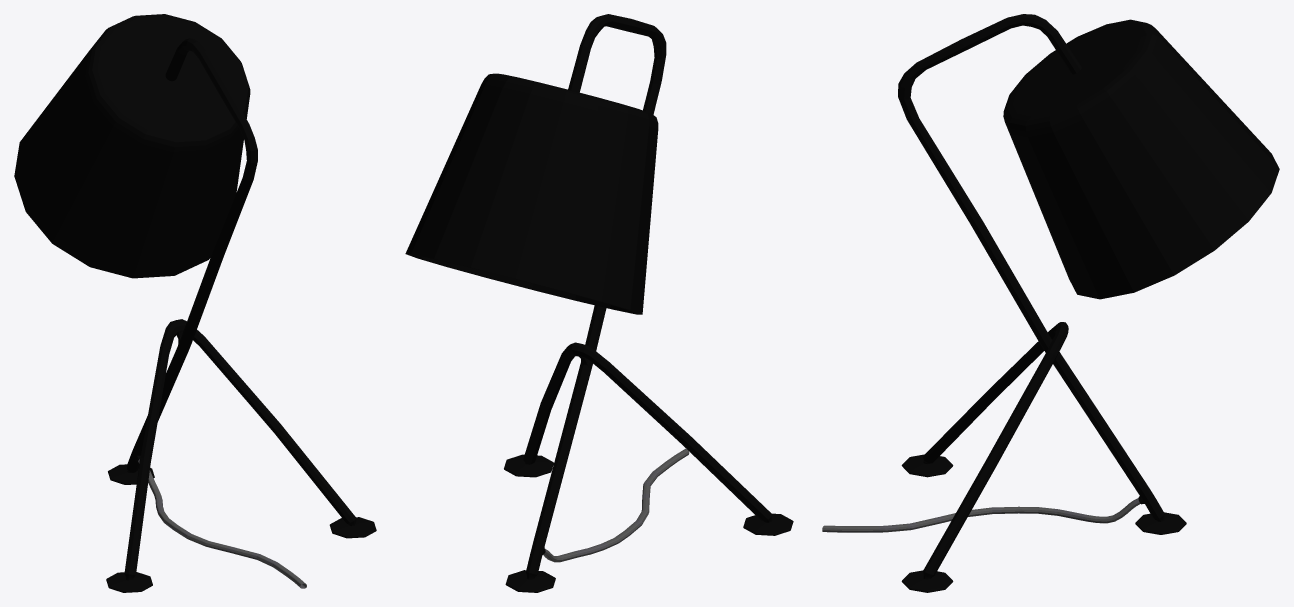
Rendered from lamp.obj.
3 renders of one model, left to right at view 1: azimuth 30°, elevation 25°; view 2: azimuth 150°, elevation 25°; view 3: azimuth 270°, elevation 25°, orthographic. The views are drawn at different scales.
Parts seen in each view (by area): view 1: Lampe_FerBlanc:Lampe_FerBlanc_Cable1 pasted__group19 group1; view 2: Lampe_FerBlanc:Lampe_FerBlanc_Cable1 pasted__group19 group1; view 3: Lampe_FerBlanc:Lampe_FerBlanc_Cable1 pasted__group19 group1.
Boxes of the visible parts, left/top/right/bottom form: Lampe_FerBlanc:Lampe_FerBlanc_Cable1 pasted__group19 group1: left=14, top=14, right=376, bottom=592; Lampe_FerBlanc:Lampe_FerBlanc_Cable1 pasted__group19 group1: left=405, top=14, right=793, bottom=592; Lampe_FerBlanc:Lampe_FerBlanc_Cable1 pasted__group19 group1: left=822, top=14, right=1279, bottom=592.
Size of the model in its own units: 0.2763 by 0.4786 by 0.3884.
2 materials, 1 textured.
